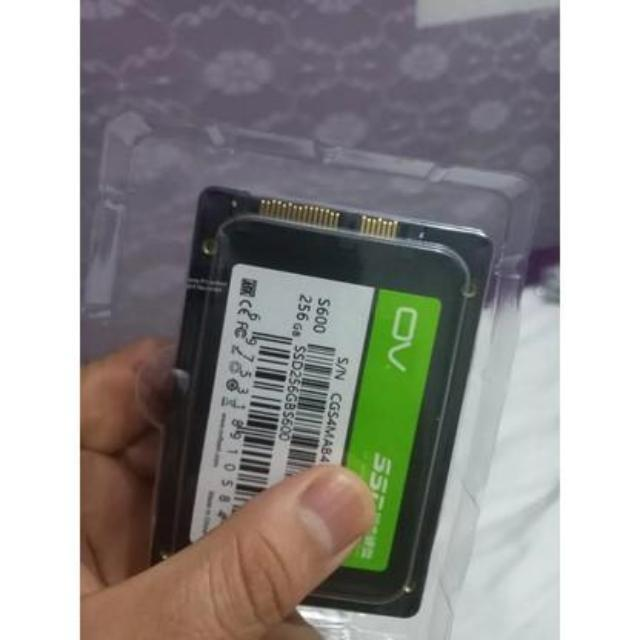DISK: (154, 177, 497, 625)
